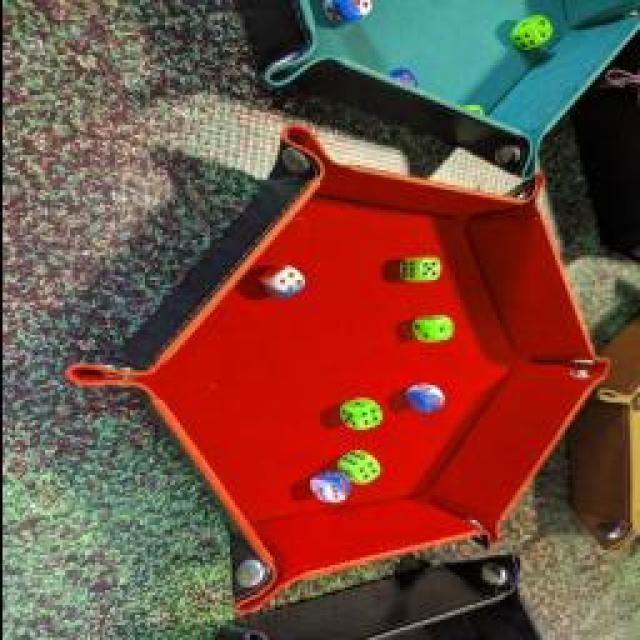dice_1: (404, 315, 454, 343)
dice_2: (503, 11, 555, 51)
dice_3: (398, 378, 448, 418), (318, 0, 378, 20)
dice_4: (332, 395, 382, 433), (259, 261, 309, 299), (334, 448, 384, 484)
dice_5: (395, 254, 443, 286), (380, 62, 420, 100)
dice_6: (308, 468, 354, 508)
